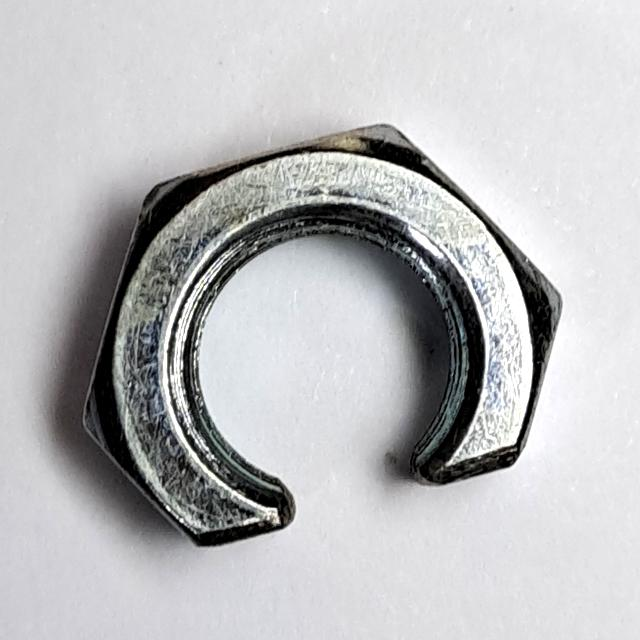Fracture: (70, 104, 573, 573)
